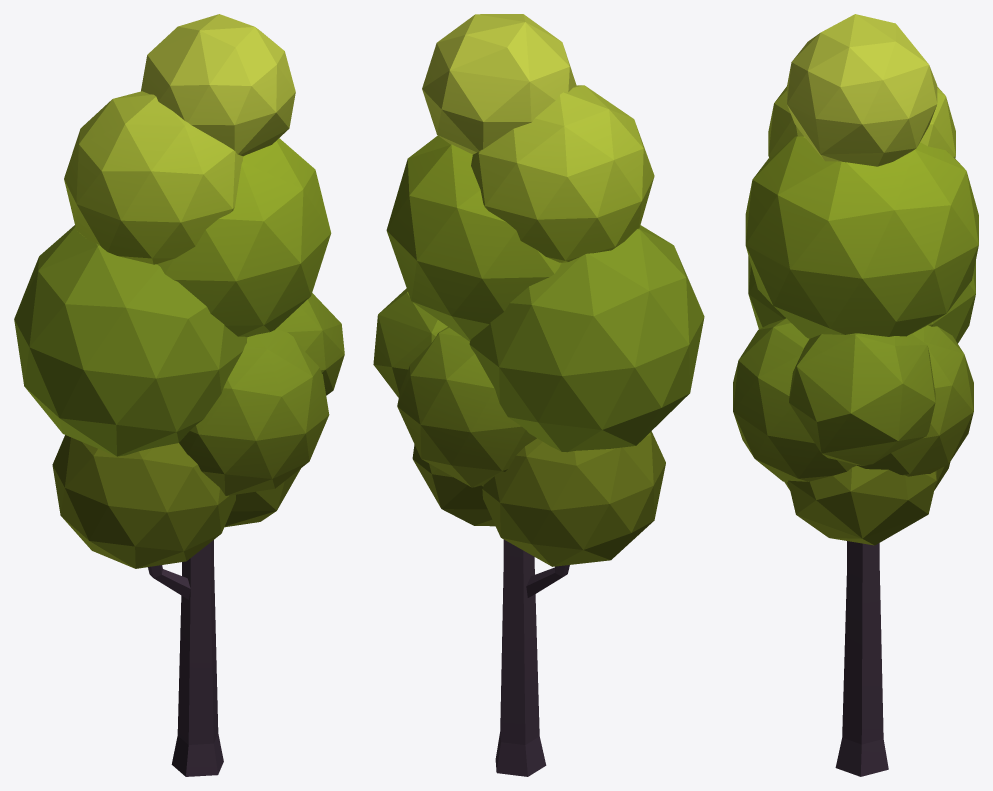
File: tree_oak3.fbx
The picture shows the model from 3 angles, left to right: view 1: azimuth 30°, elevation 25°; view 2: azimuth 150°, elevation 25°; view 3: azimuth 270°, elevation 25°; orthographic projection.
Visible parts, largest first — view 1: tree_oak3; view 2: tree_oak3; view 3: tree_oak3.
Boxes of the visible parts, x1,y1,x2,y2 form: tree_oak3: [14, 14, 344, 776]; tree_oak3: [373, 14, 704, 776]; tree_oak3: [733, 14, 978, 776].
Size of the model in its own units: 142 by 327 by 97.33.
